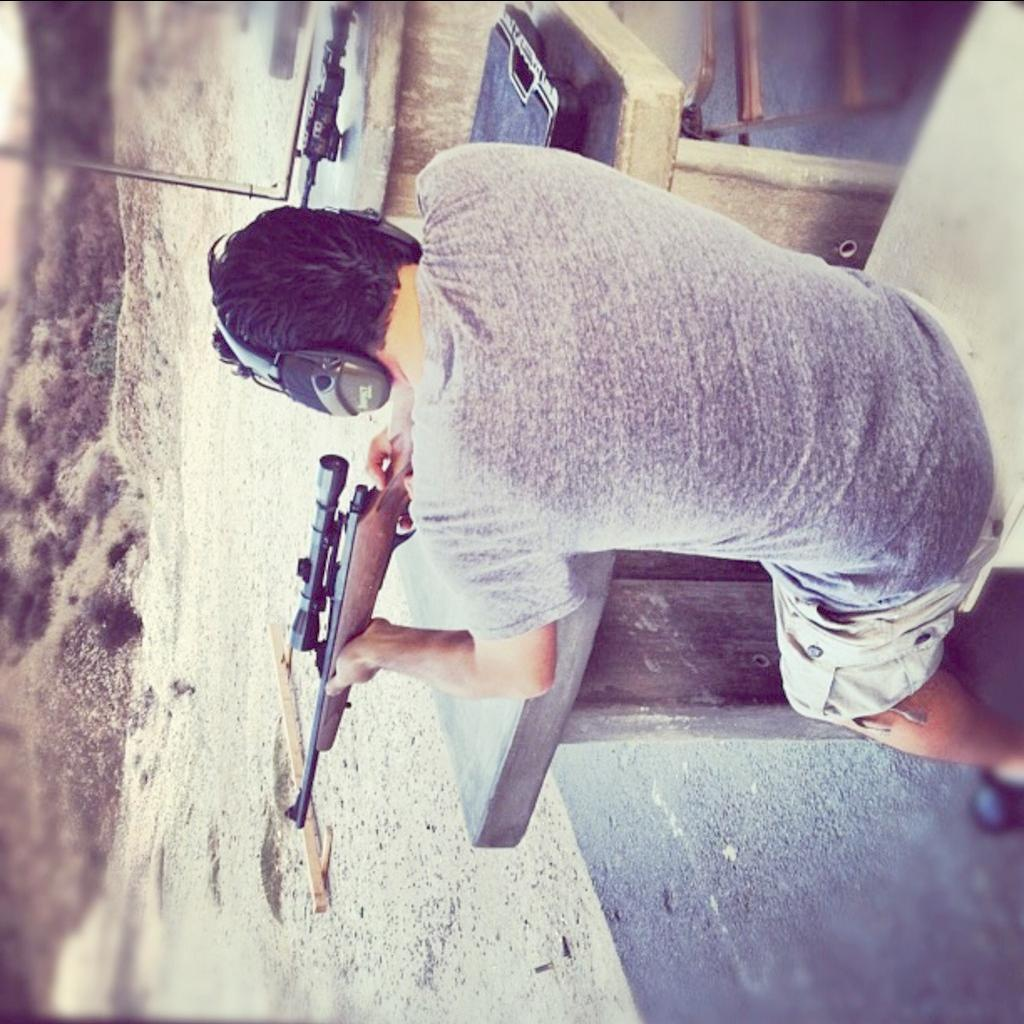gun: (260, 444, 433, 830), (286, 453, 412, 828)
